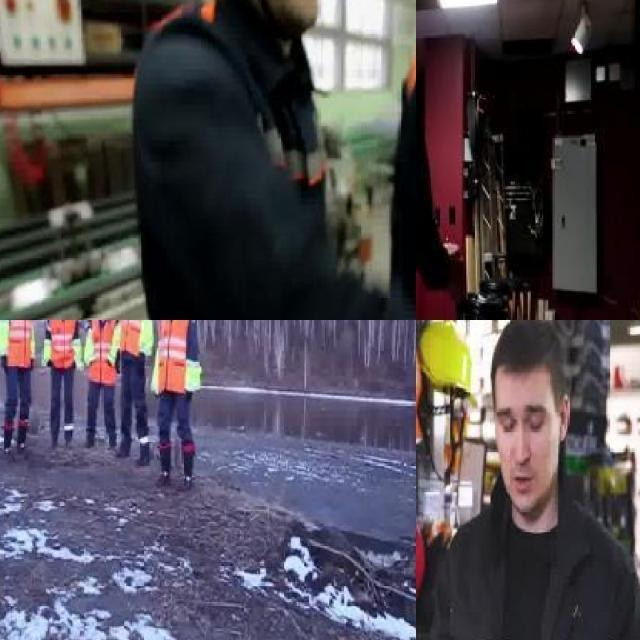apron: (138, 351, 144, 376), (116, 349, 121, 375)
